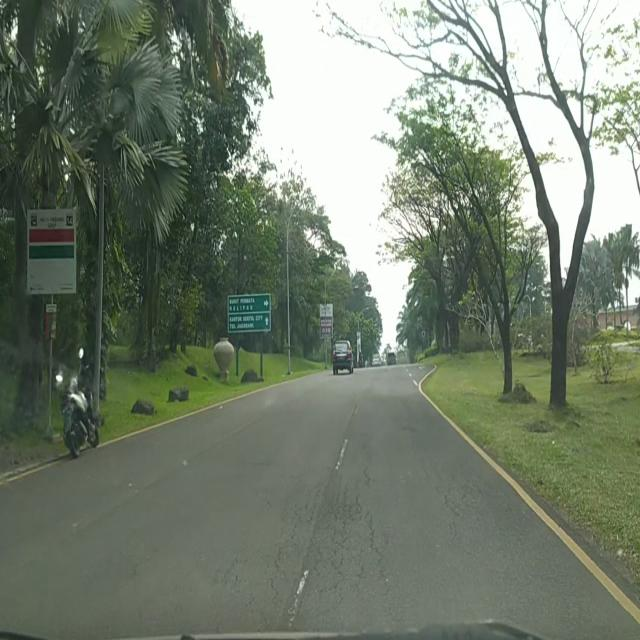Drain Hole: (264, 460, 380, 600)
